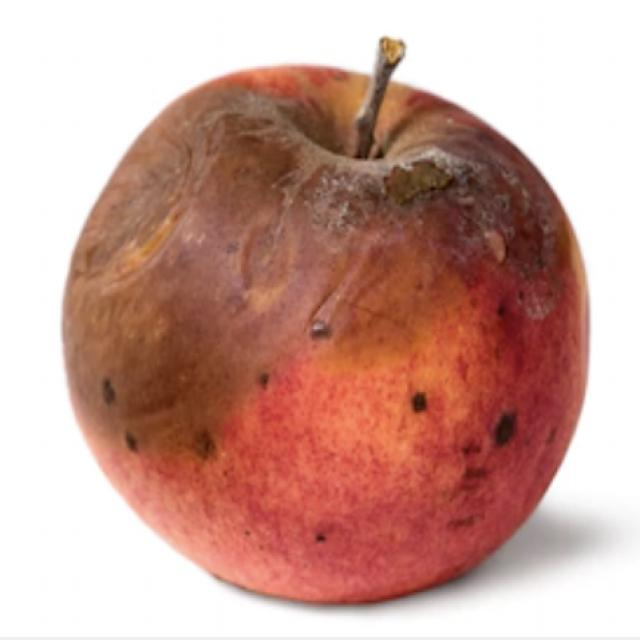rotten_apple: (59, 41, 590, 606)
